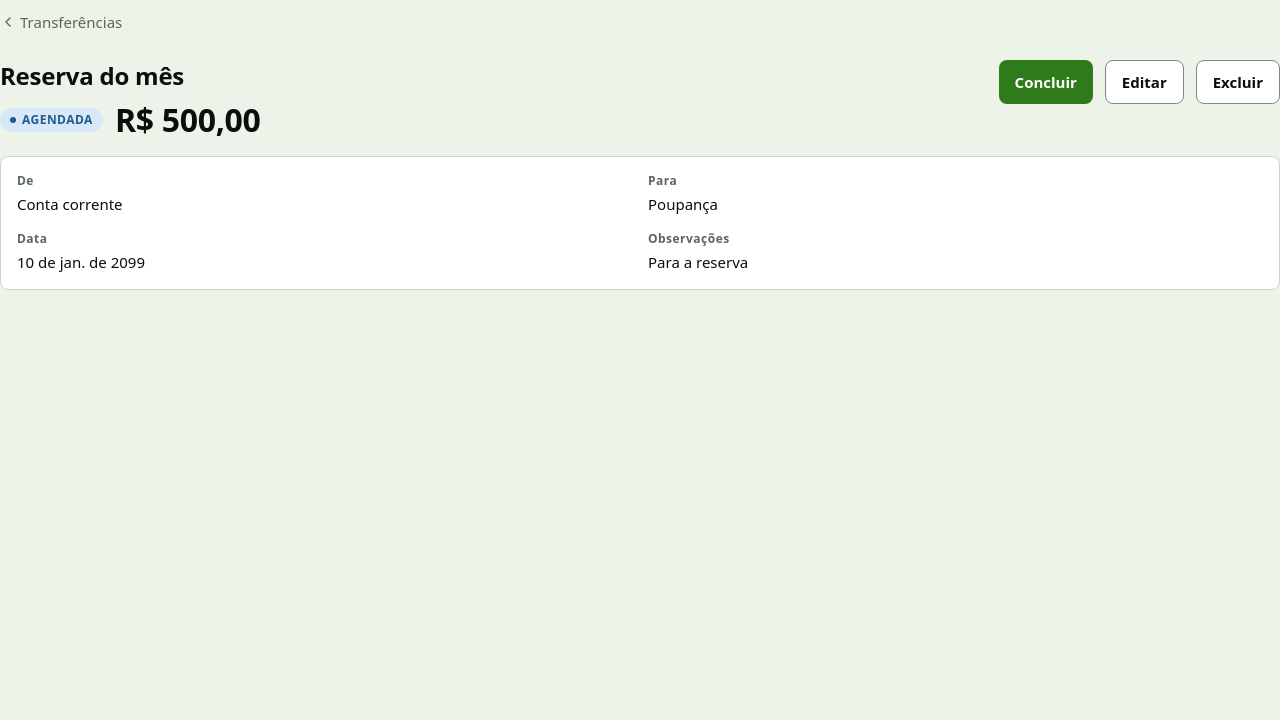
it: TransferDetailPage (spec 0018) › completes a scheduled transfer with the chosen date
The image size is (1280, 720).
Click the button "Concluir".
click(1046, 82)  # box [999,60,1093,104]
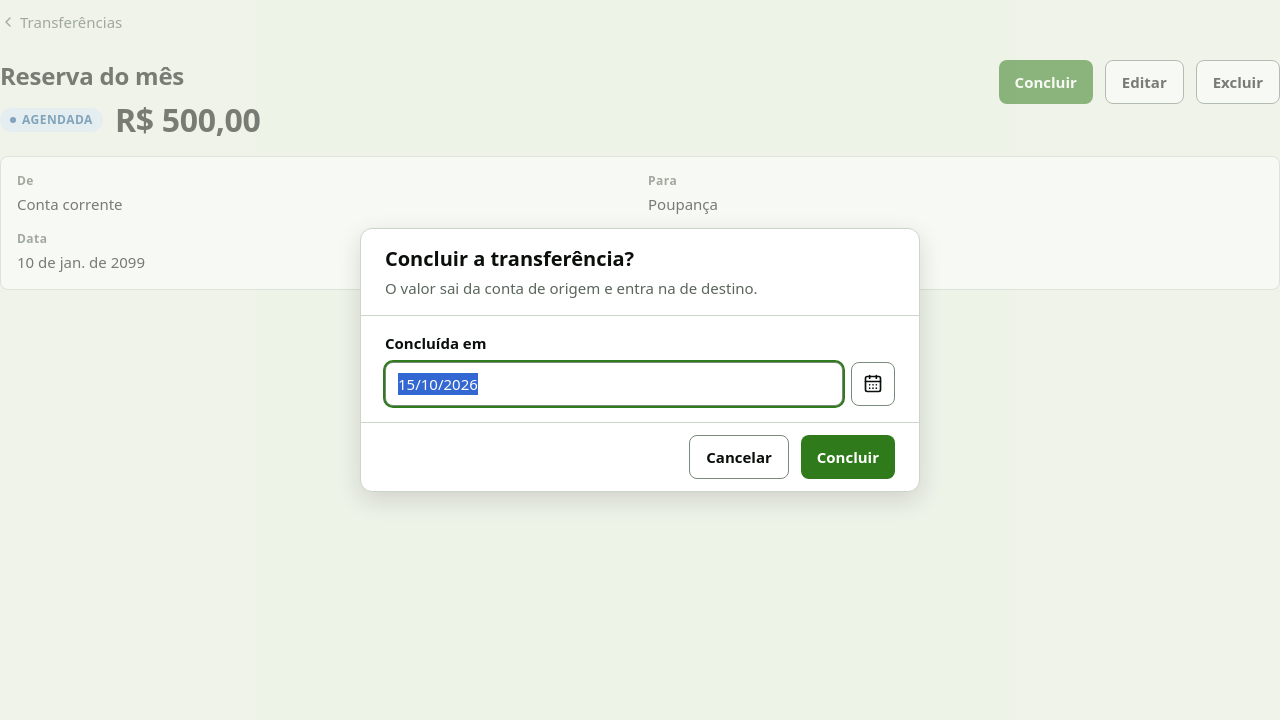
Replace the text in the field labelled "Concluída em" with "2026-10-11" at (614,384), box [385,362,843,406]
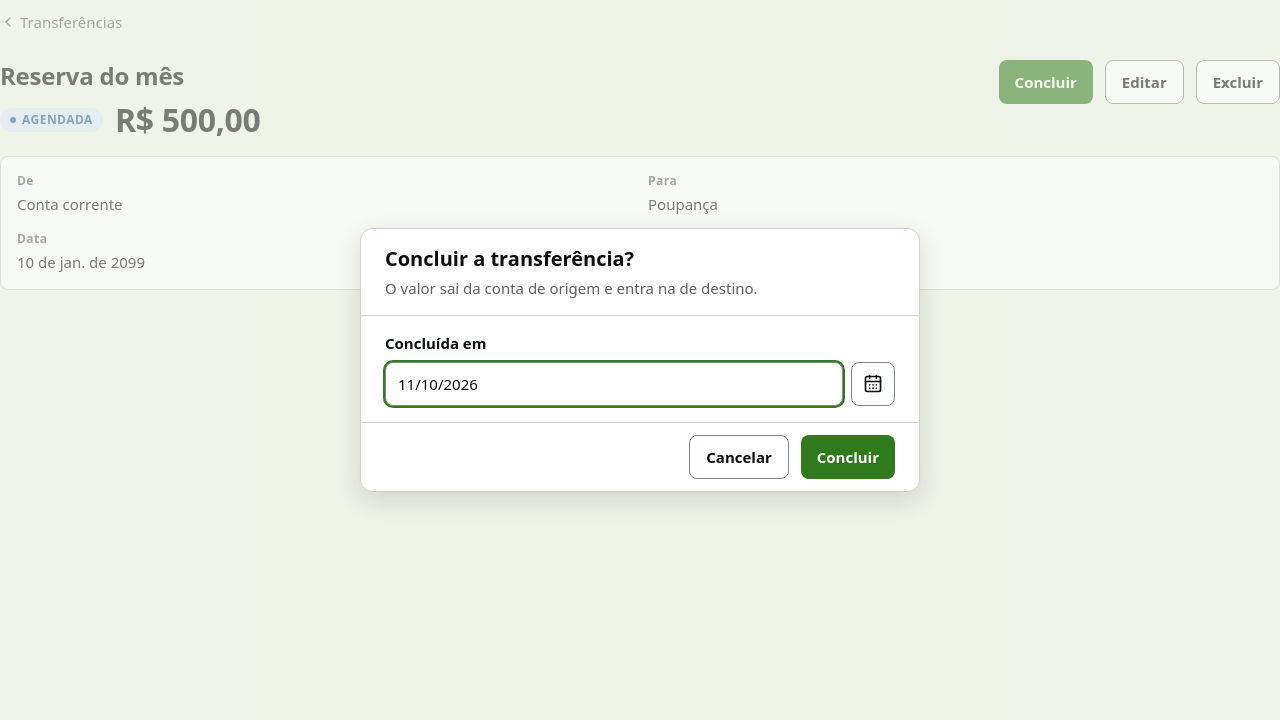
Click the button "Concluir".
click(848, 457)  # box [801,435,895,479]
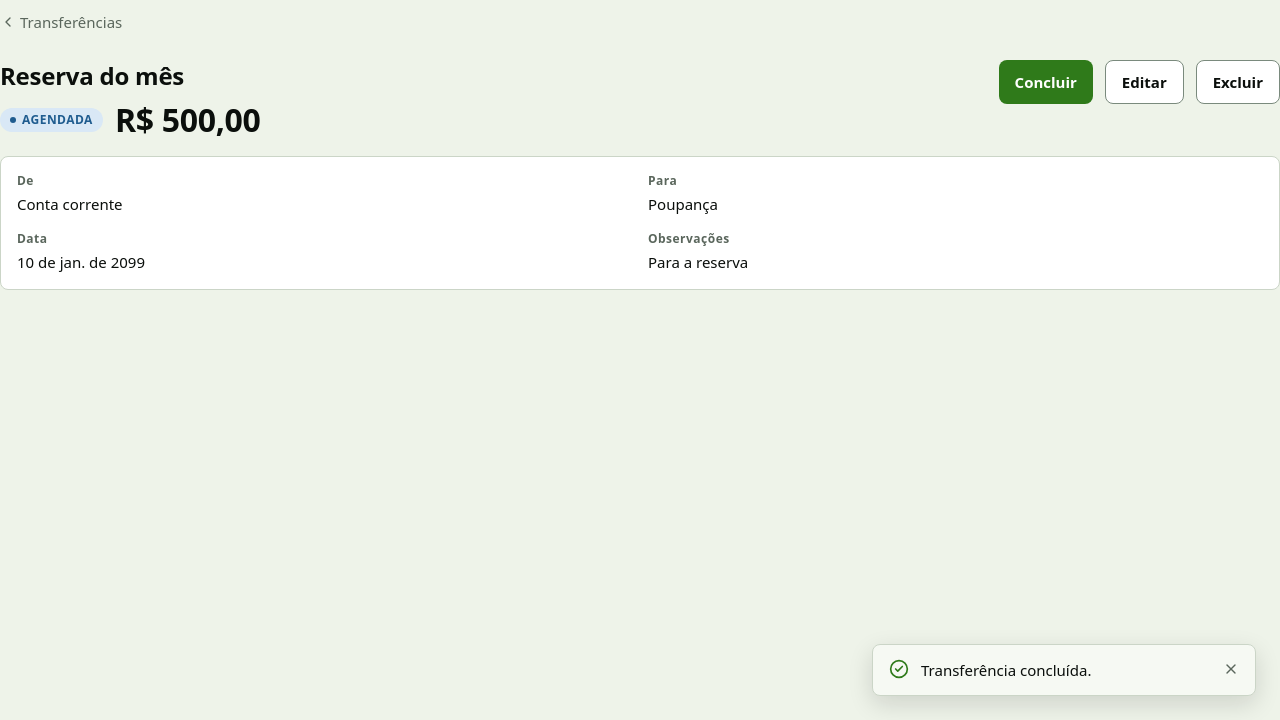
Expected: the text "Transferência concluída." is shown, [921,660,1091,680]
